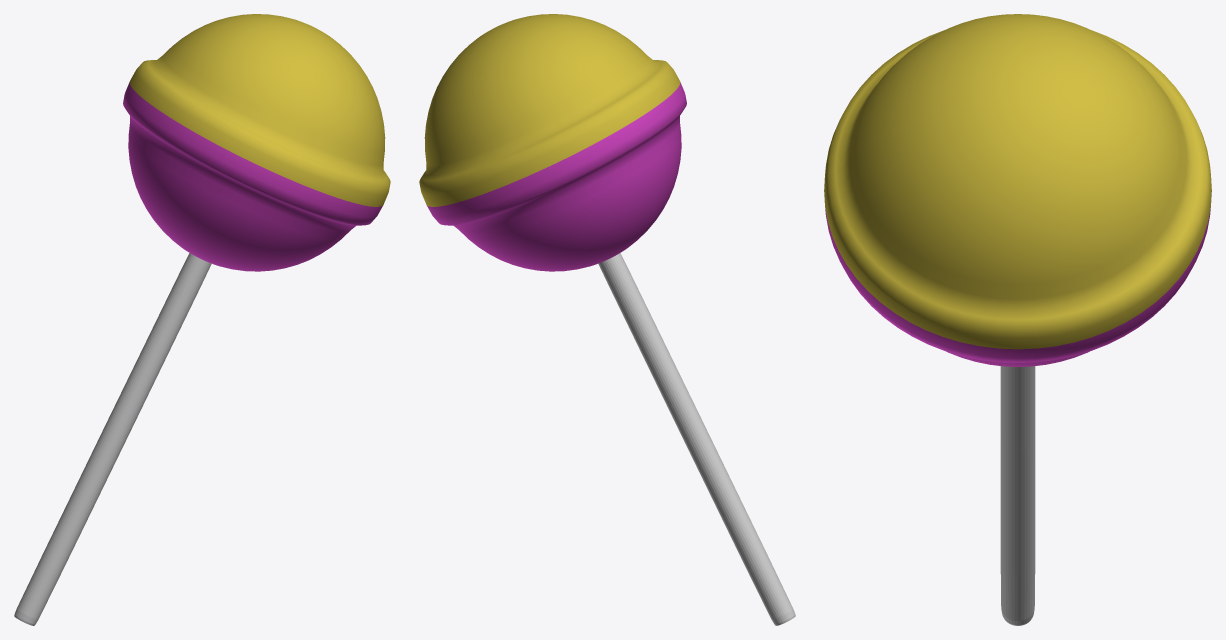
The model's file is Lolipop.obj.
The picture shows the model from 3 angles, left to right: view 1: azimuth 30°, elevation 25°; view 2: azimuth 150°, elevation 25°; view 3: azimuth 270°, elevation 25°; orthographic projection. The views are drawn at different scales.
Visible parts, largest first — view 1: Sphere; view 2: Sphere; view 3: Sphere.
Boxes of the visible parts, x1=… form: Sphere: x1=14, y1=14, x2=390, y2=625; Sphere: x1=419, y1=14, x2=795, y2=625; Sphere: x1=824, y1=14, x2=1211, y2=625.
Bounding box in the file's own units: 0.0249 × 0.0365 × 0.0172.
